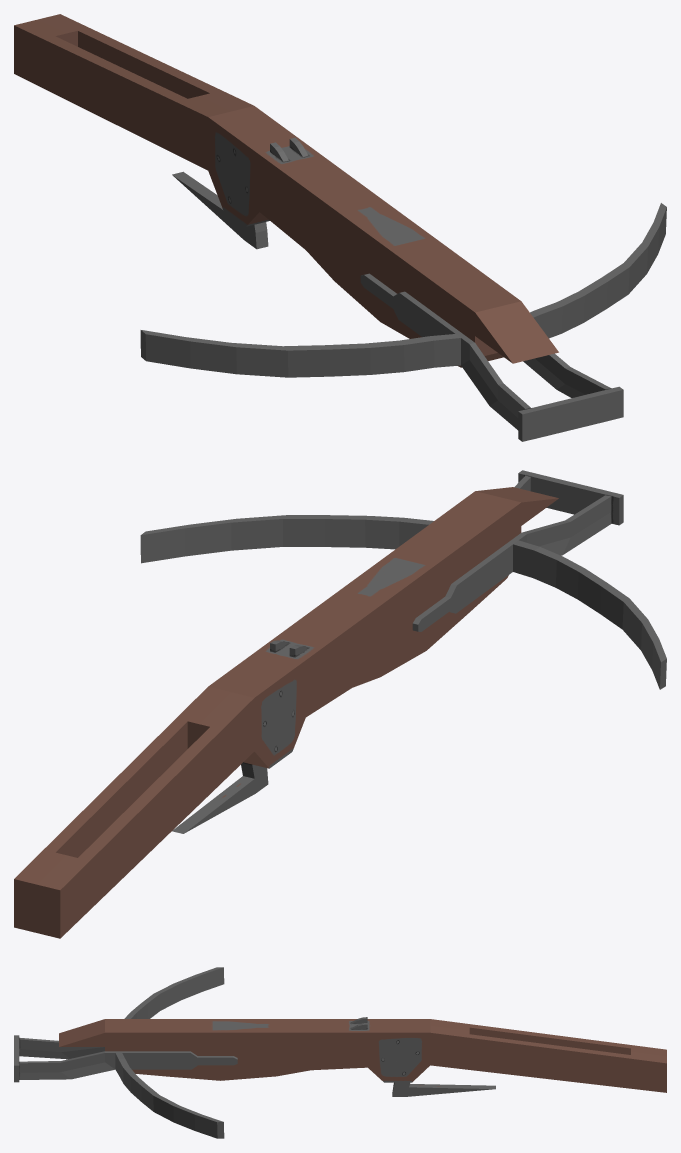
The model's file is RangedCrow.fbx.
The picture shows the model from 3 angles, top to bottom: view 1: azimuth 30°, elevation 25°; view 2: azimuth 150°, elevation 25°; view 3: azimuth 270°, elevation 25°; orthographic projection. The views are drawn at different scales.
Visible parts, largest first — view 1: Cube; view 2: Cube; view 3: Cube.
Boxes of the visible parts, <box> form: Cube: <box>14,14,666,441</box>; Cube: <box>14,470,666,938</box>; Cube: <box>14,967,666,1138</box>.
Bounding box in the file's own units: 69.44 × 15.54 × 124.
